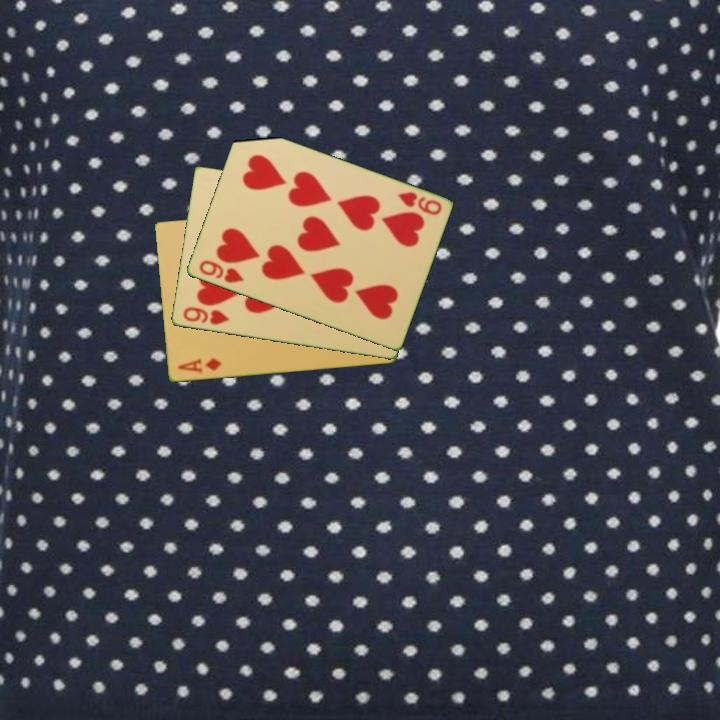9h: (394, 188, 444, 218), (195, 257, 246, 286), (179, 304, 232, 328)
Ad: (174, 355, 224, 376)
